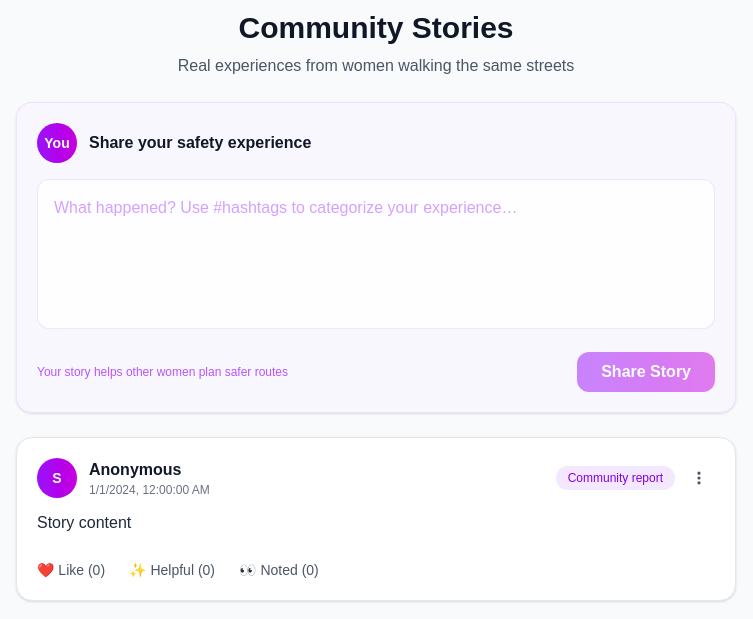
StoryFeed Integration › should show cancel button in edit mode
Expected: the text "Story content" is shown, top-left (37, 514), bottom-right (131, 531)
Note: Find and click the three-dot menu
Click the button named "Story options".
click(699, 478)  # box top-left (683, 462), bottom-right (715, 494)
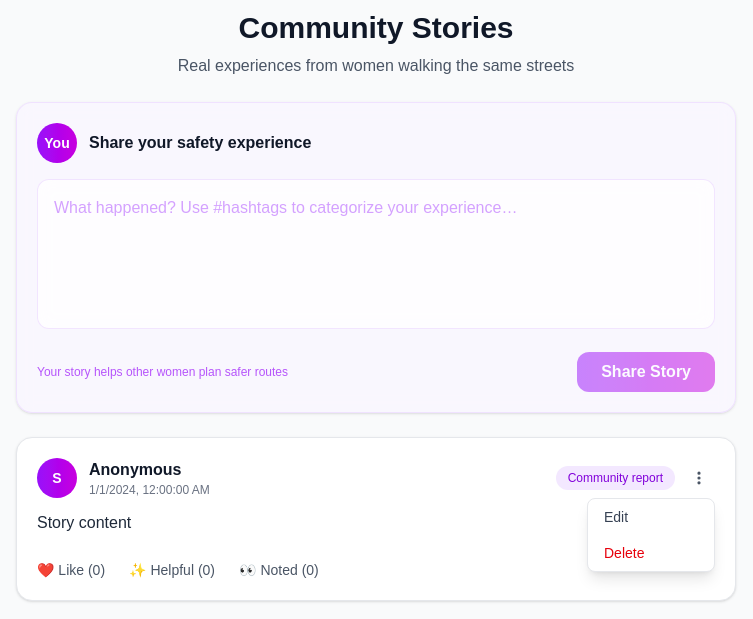
Note: Click edit
Click the button "Edit".
click(651, 517)  # box top-left (588, 499), bottom-right (714, 535)
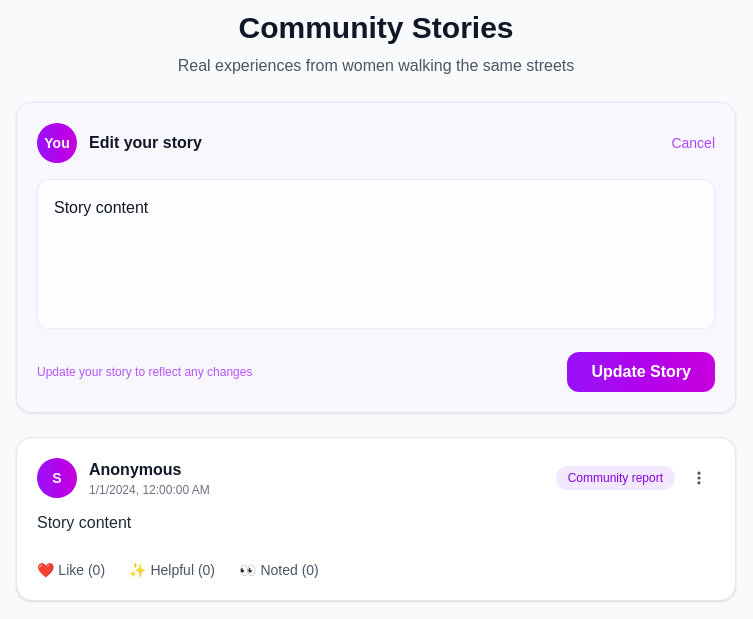
Now the button "Cancel" is shown
Note: Click cancel
Click the button "Cancel".
click(693, 143)  # box top-left (671, 133), bottom-right (715, 153)
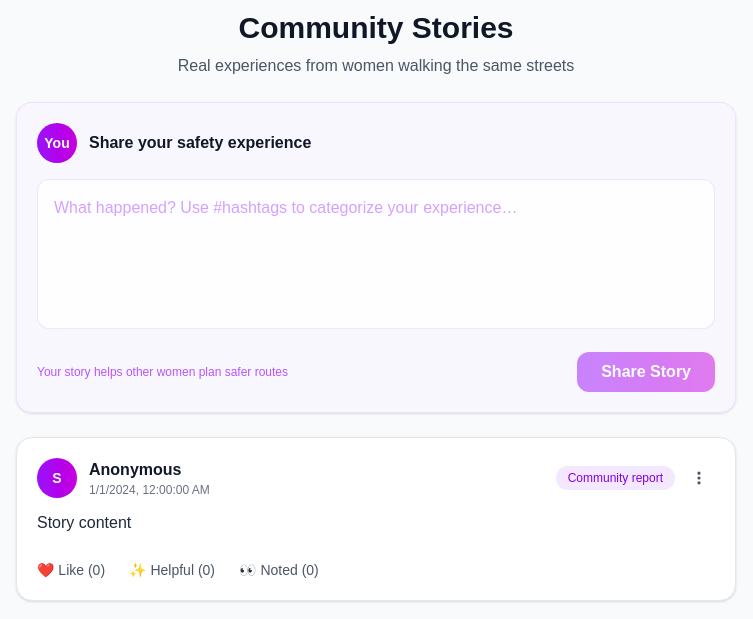
Now the text "Share your safety experience" is shown, box top-left (89, 131), bottom-right (311, 155)
Now the button "Share Story" is shown, box top-left (577, 352), bottom-right (715, 392)
Now the text box with placeholder "What happened? Use #hashtags to categorize your experience…" is empty, box top-left (37, 179), bottom-right (715, 329)
